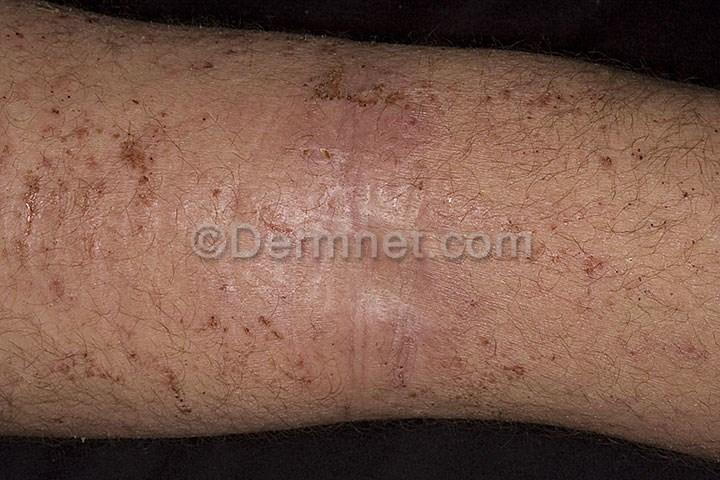Eritema 2: (259, 67, 425, 396)
exudacion 2: (8, 1, 702, 416)
